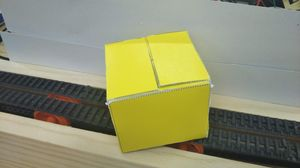box4: (102, 29, 211, 152)
